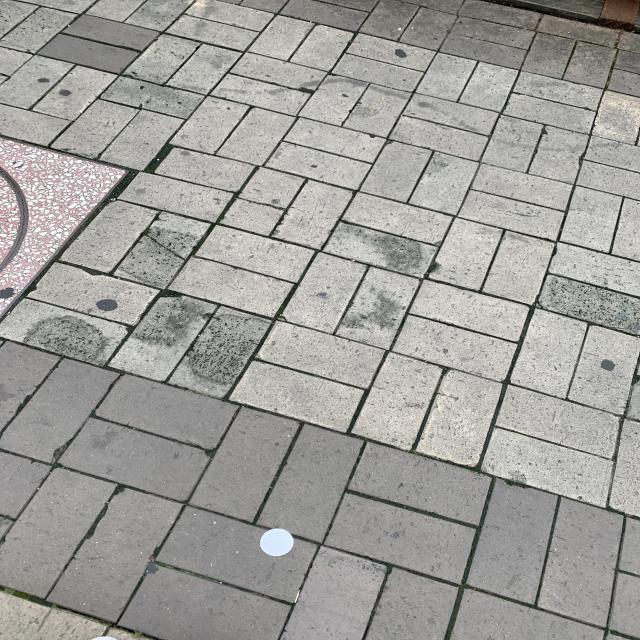litter: (260, 528, 294, 557)
